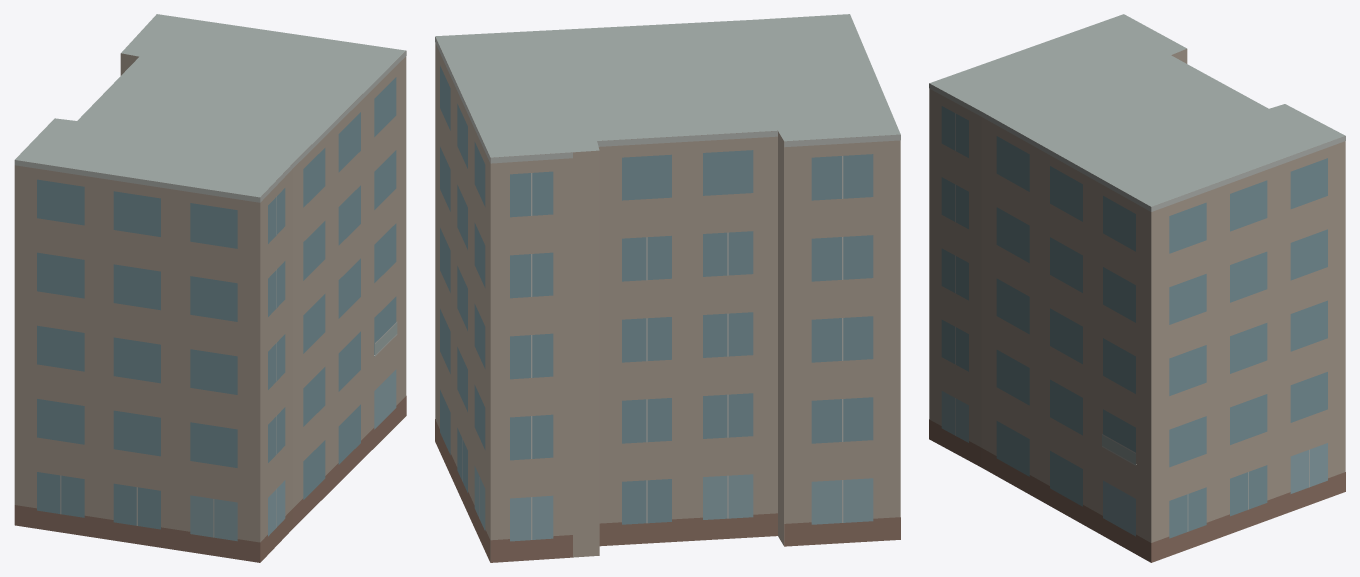
The model's file is survey-upis-32969489.glb.
The picture shows the model from 3 angles, left to right: view 1: azimuth 30°, elevation 25°; view 2: azimuth 150°, elevation 25°; view 3: azimuth 270°, elevation 25°; orthographic projection. The views are drawn at different scales.
Parts seen in each view (by area): view 1: survey-upis-32969489.tmp; view 2: survey-upis-32969489.tmp; view 3: survey-upis-32969489.tmp.
Boxes of the visible parts, bbox=[...] form: survey-upis-32969489.tmp: bbox=[14, 14, 406, 562]; survey-upis-32969489.tmp: bbox=[435, 14, 900, 562]; survey-upis-32969489.tmp: bbox=[929, 14, 1345, 562].
Bounding box in the file's own units: 19.42 × 16.7 × 17.72.
